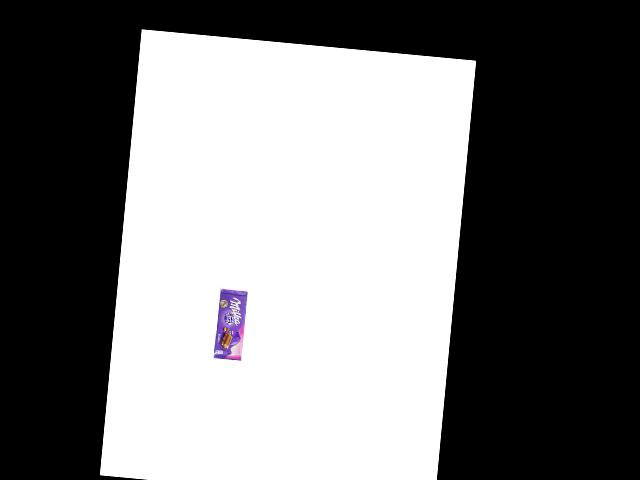chocolate: (212, 288, 248, 360)
